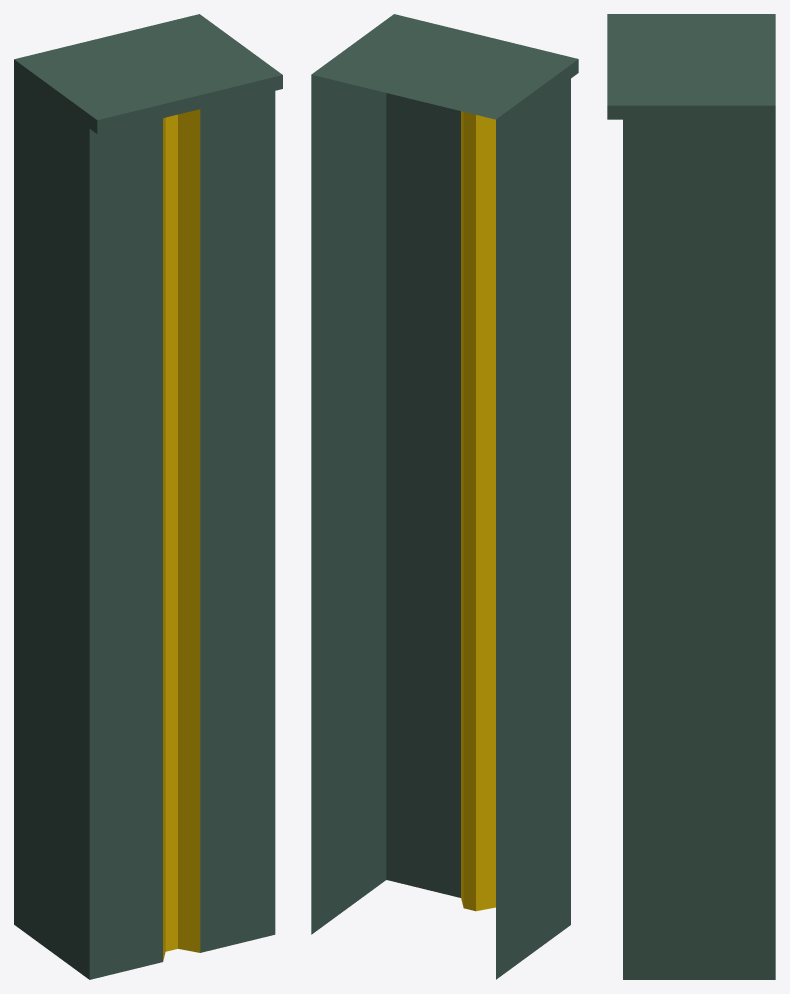
3 views of the same model, side by side, from view 1: azimuth 30°, elevation 25°; view 2: azimuth 150°, elevation 25°; view 3: azimuth 270°, elevation 25° (orthographic).
Visible parts, largest first — view 1: Column.062; view 2: Column.062; view 3: Column.062.
Part boxes in pixels (box(x1,y1,x2,y2)): Column.062: box(14, 14, 282, 979); Column.062: box(311, 14, 578, 979); Column.062: box(607, 14, 775, 979).
Size of the model in its own units: 278 by 1241 by 217.
